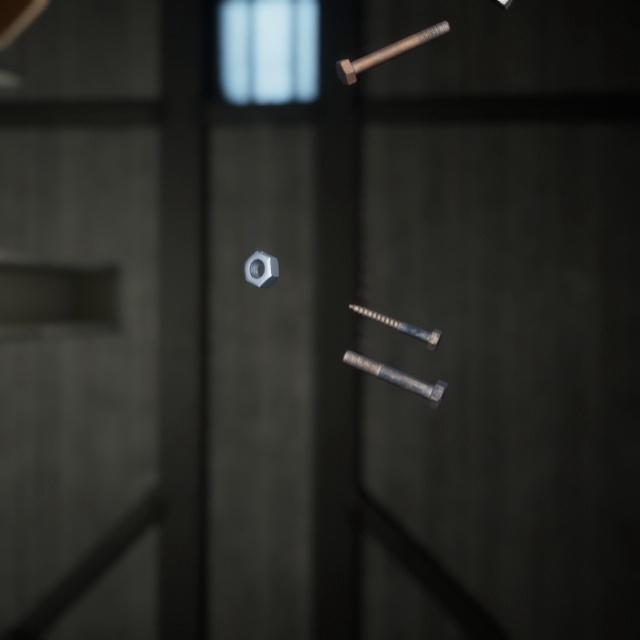bolt: (331, 8, 454, 81), (337, 327, 452, 396), (344, 282, 447, 339)
nut: (239, 229, 283, 275)
